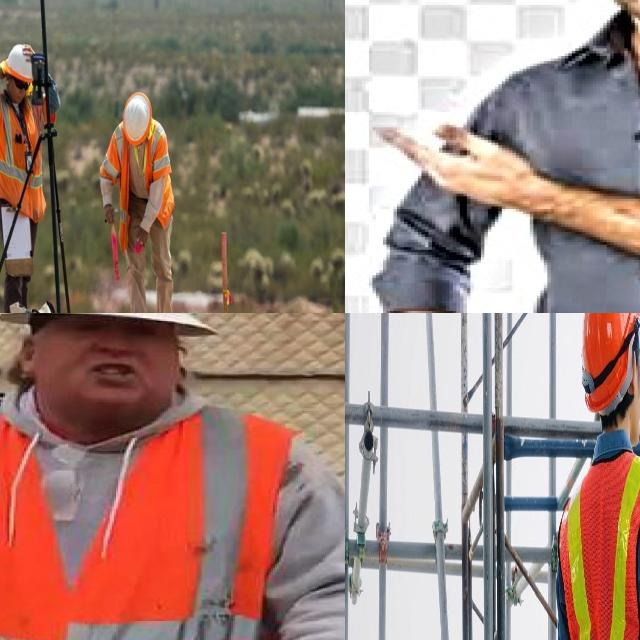face_nomask: (3, 314, 210, 419), (2, 78, 32, 107)
glasses: (11, 73, 32, 92)
head_helmet: (581, 313, 640, 413), (0, 313, 229, 336), (122, 92, 153, 143), (6, 43, 36, 84)
person: (0, 313, 345, 640), (557, 313, 640, 640), (105, 92, 183, 313), (0, 42, 52, 313)
vest: (0, 393, 281, 640), (560, 446, 640, 640), (103, 118, 174, 226), (0, 94, 45, 217)
